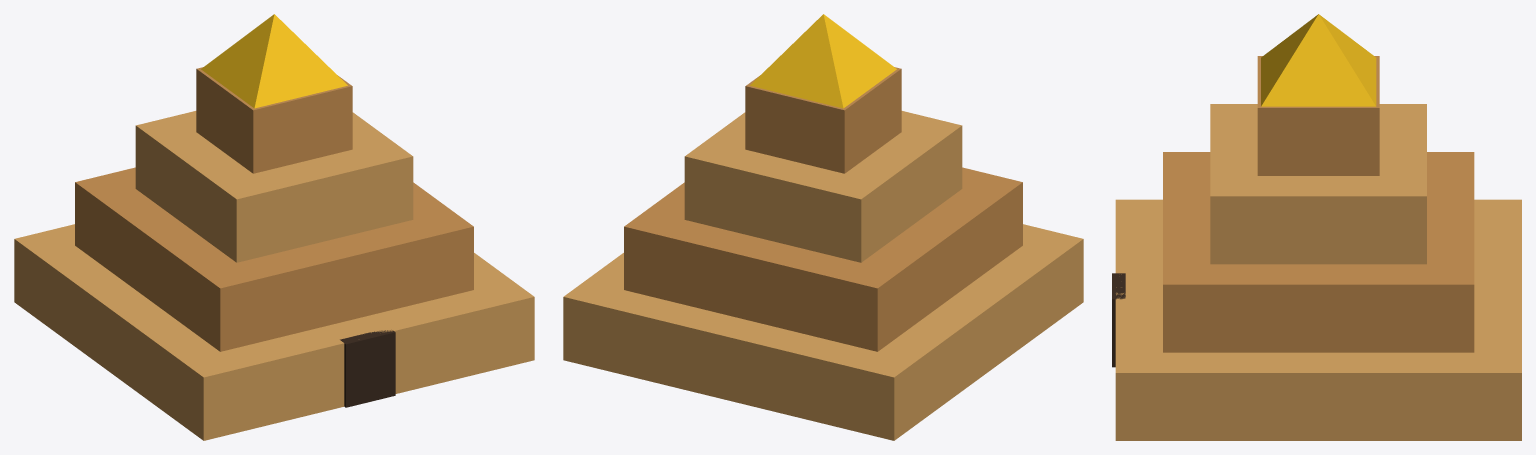
The model's file is env_r5_pyramid.glb.
3 renders of one model, left to right at view 1: azimuth 30°, elevation 25°; view 2: azimuth 150°, elevation 25°; view 3: azimuth 270°, elevation 25°, orthographic. The views are drawn at different scales.
Parts seen in each view (by area): view 1: env_r5_pyramid; view 2: env_r5_pyramid; view 3: env_r5_pyramid.
Part boxes in pixels (box(x1,y1,x2,y2)): env_r5_pyramid: box(14, 14, 534, 440); env_r5_pyramid: box(563, 14, 1083, 440); env_r5_pyramid: box(1112, 14, 1521, 440).
Bounding box in the file's own units: 6 × 5.5 × 6.
1 material, 1 textured.
